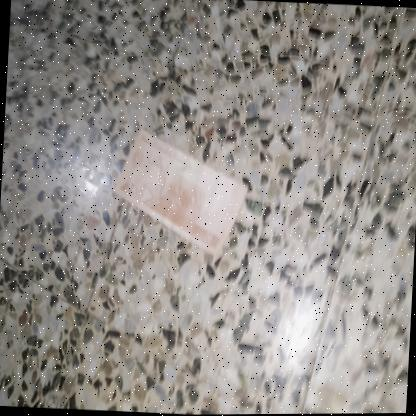twenty-back-vef: (108, 125, 252, 256)
